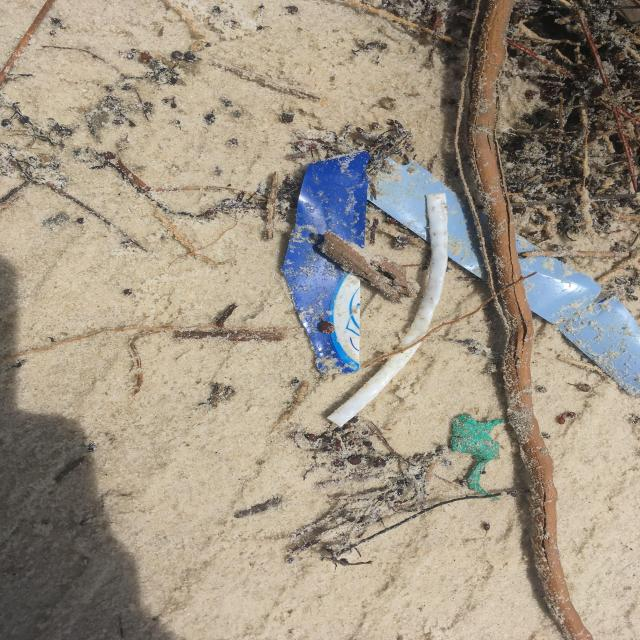litter: (374, 154, 635, 391), (329, 192, 444, 431), (283, 147, 373, 374)
